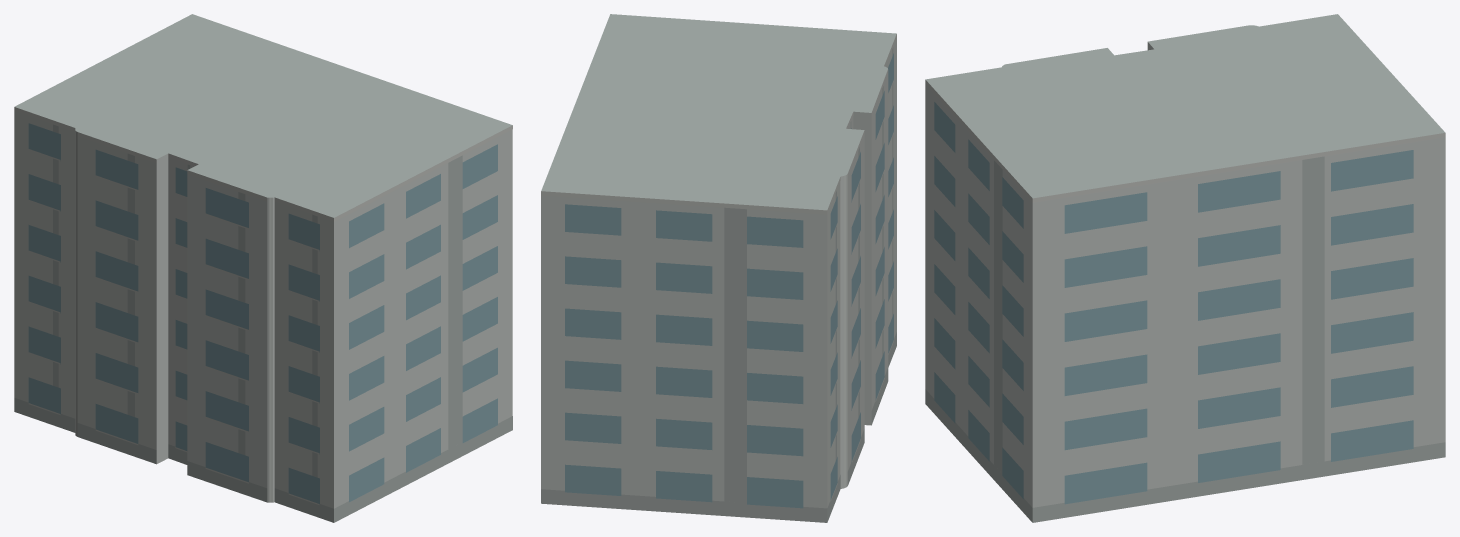
Rendered from survey-upis-32834168.glb.
The picture shows the model from 3 angles, left to right: view 1: azimuth 30°, elevation 25°; view 2: azimuth 150°, elevation 25°; view 3: azimuth 270°, elevation 25°; orthographic projection. The views are drawn at different scales.
Visible parts, largest first — view 1: survey-upis-32834168.tmp; view 2: survey-upis-32834168.tmp; view 3: survey-upis-32834168.tmp.
Part boxes in pixels (x1,y1,x2,y2): survey-upis-32834168.tmp: [14, 14, 512, 522]; survey-upis-32834168.tmp: [541, 14, 896, 522]; survey-upis-32834168.tmp: [925, 14, 1445, 522].
Bounding box in the file's own units: 21.77 × 17.86 × 25.96.
